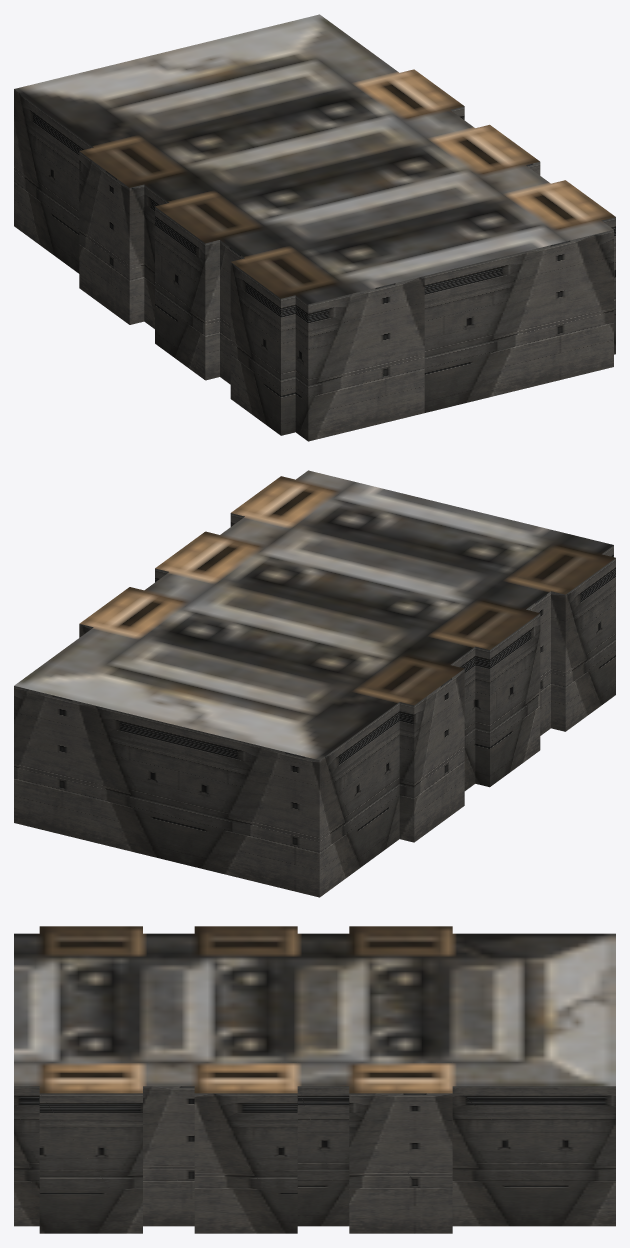
File: fortress_heavy_a_08.glb
The picture shows the model from 3 angles, top to bottom: view 1: azimuth 30°, elevation 25°; view 2: azimuth 150°, elevation 25°; view 3: azimuth 270°, elevation 25°; orthographic projection. The views are drawn at different scales.
Parts seen in each view (by area): view 1: buildings/saxarba/fortress_heavy/fortress_heavy_a_08; view 2: buildings/saxarba/fortress_heavy/fortress_heavy_a_08; view 3: buildings/saxarba/fortress_heavy/fortress_heavy_a_08.
Part boxes in pixels (box(x1,y1,x2,y2)): buildings/saxarba/fortress_heavy/fortress_heavy_a_08: box(14, 14, 615, 441); buildings/saxarba/fortress_heavy/fortress_heavy_a_08: box(14, 470, 615, 897); buildings/saxarba/fortress_heavy/fortress_heavy_a_08: box(14, 926, 615, 1233).
Bounding box in the file's own units: 46 × 18 × 70.
